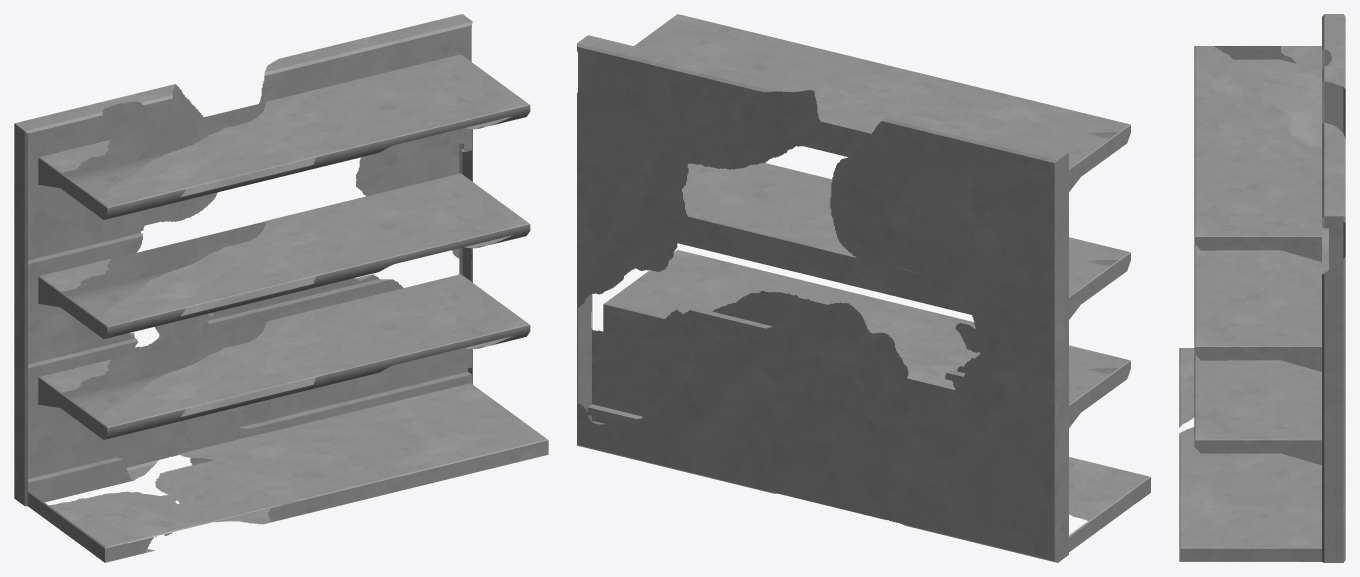
File: Metal_ShelfStand.obj
3 views of the same model, side by side, from view 1: azimuth 30°, elevation 25°; view 2: azimuth 150°, elevation 25°; view 3: azimuth 270°, elevation 25° (orthographic). The views are drawn at different scales.
Parts seen in each view (by area): view 1: MetalShelf1_Metal_Support; view 2: MetalShelf1_Metal_Support; view 3: MetalShelf1_Metal_Support.
Boxes of the visible parts, box(x1,y1,x2,y2) form: MetalShelf1_Metal_Support: box(14, 14, 548, 562); MetalShelf1_Metal_Support: box(577, 14, 1150, 562); MetalShelf1_Metal_Support: box(1179, 14, 1345, 562).
Size of the model in its own units: 300 by 240 by 104.
